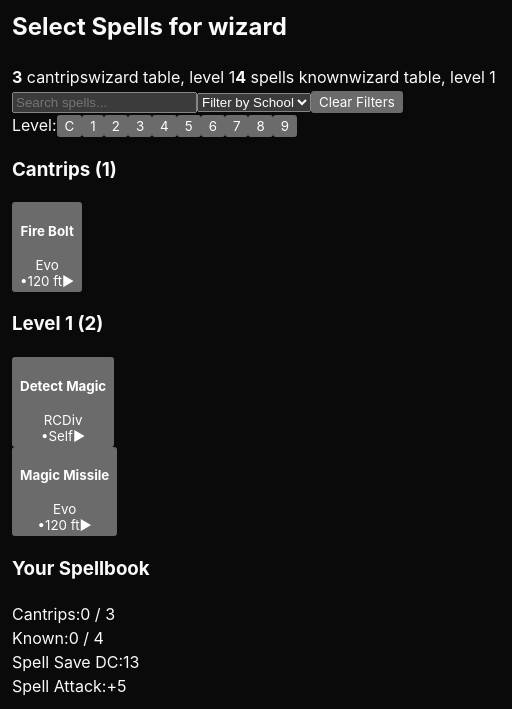
Test: SpellSelectionStep › school filter › selecting Divination school filters correctly
Expected: the heading "Fire Bolt" is shown, [20,223,74,239]
Select "Divination" in the dropdown named "filter by school": x=254, y=102 [197,93,311,112]
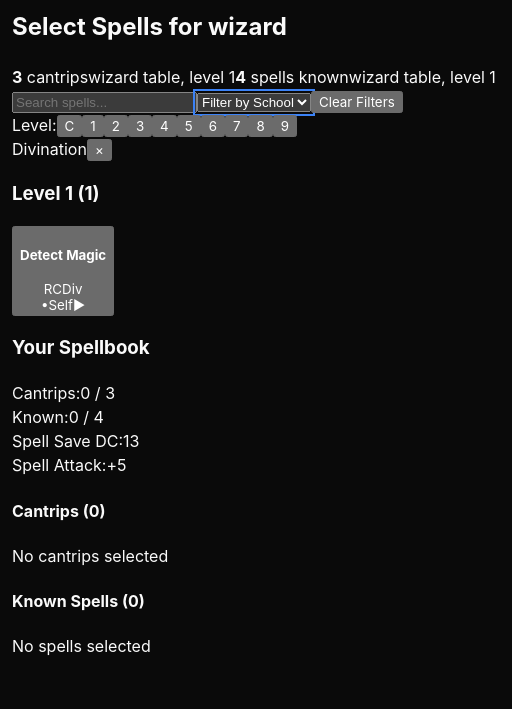
Expected: the heading "Detect Magic" is shown, [20,247,106,263]
Now the button "Fire Bolt" is gone
